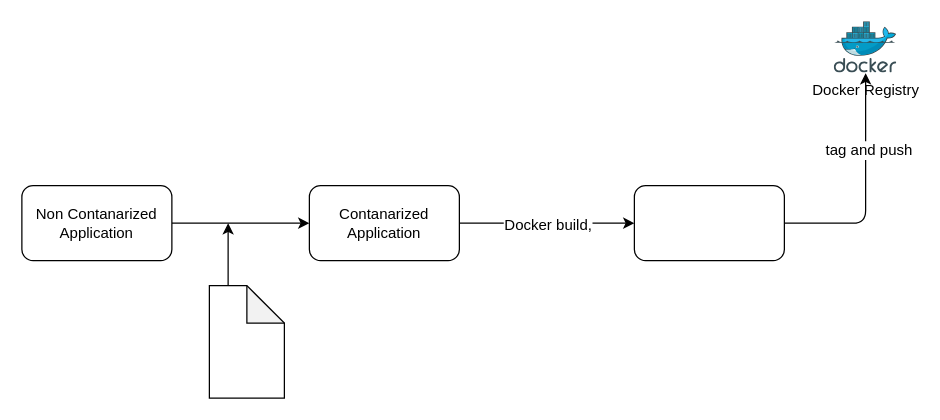
Some shapes in this 940 by 420 pixel diagram are drawn without their labels. The centre of each missing label's shape, as x and y in pixels:
Application Image: pixel 708 222
Dockerfile: pixel 246 341
